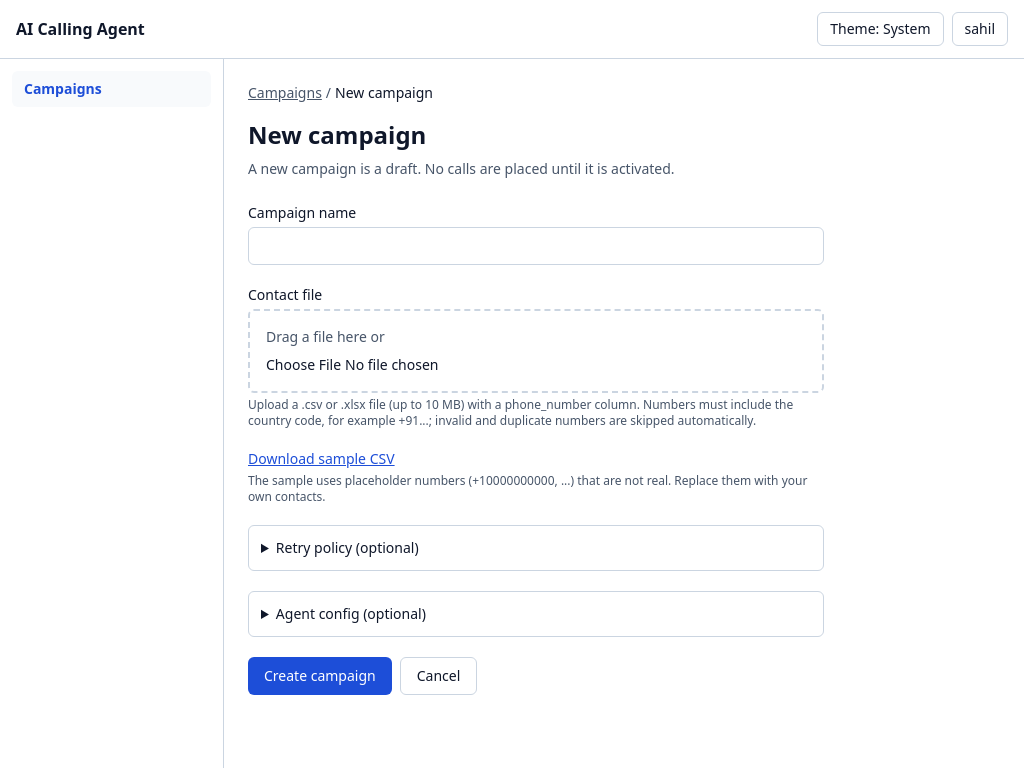
Scenario: client-side checks (the server stays the real validator) › name and file are required
Expected: the field labelled "Campaign name" is shown, [248, 227, 824, 265]
Click the button "Create campaign".
click(320, 676)  # box [248, 657, 392, 695]
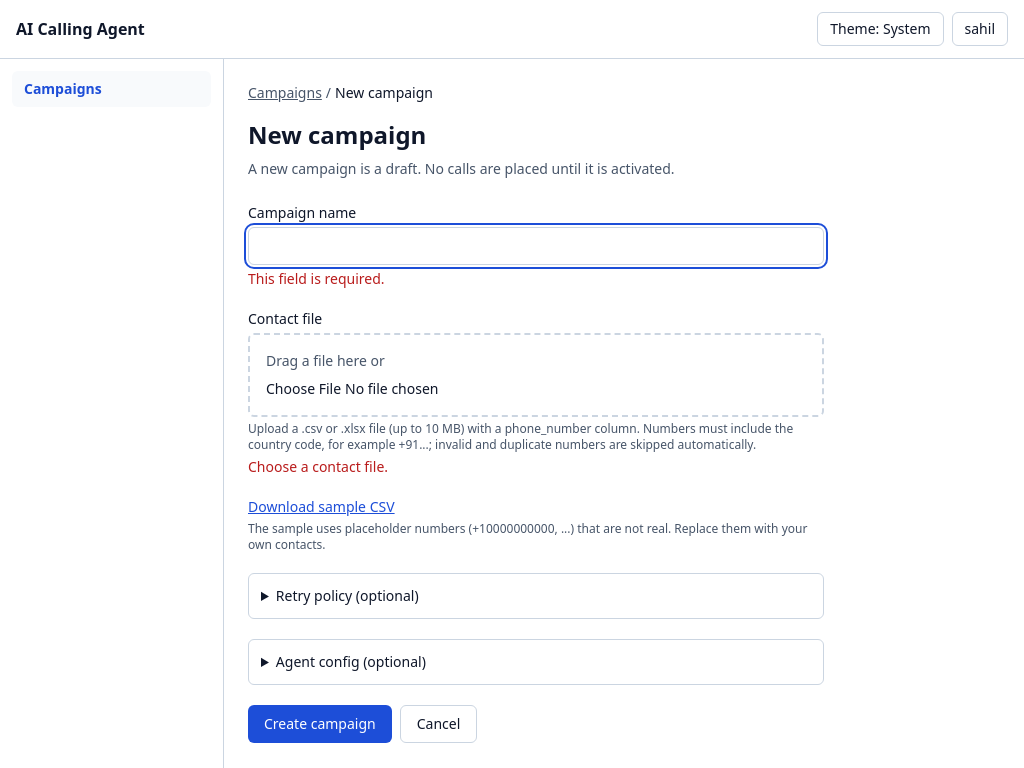
Now the text "This field is required." is shown, box [248, 269, 385, 288]
Now the text "Choose a contact file." is shown, box [248, 457, 388, 476]
